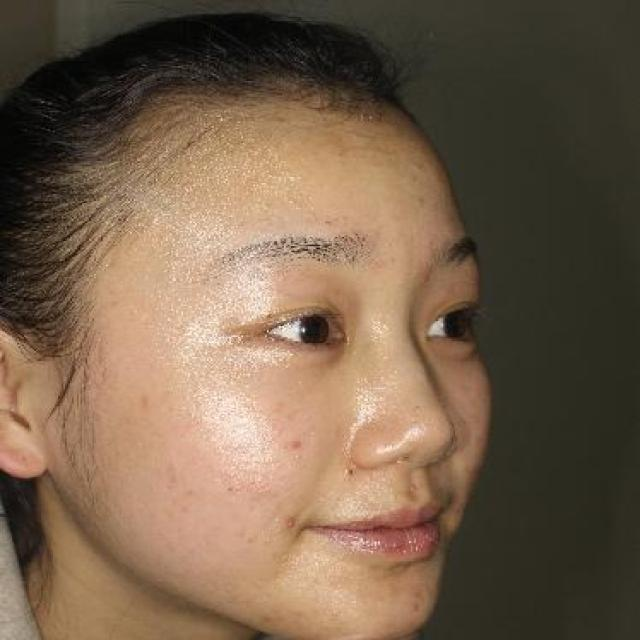Acne: (279, 434, 318, 454), (130, 389, 161, 414), (279, 512, 303, 542)
Blackheads: (337, 465, 365, 483)
Whiteheads: (411, 189, 431, 214), (402, 477, 423, 497), (286, 190, 301, 208), (320, 215, 335, 231), (407, 598, 421, 614)
